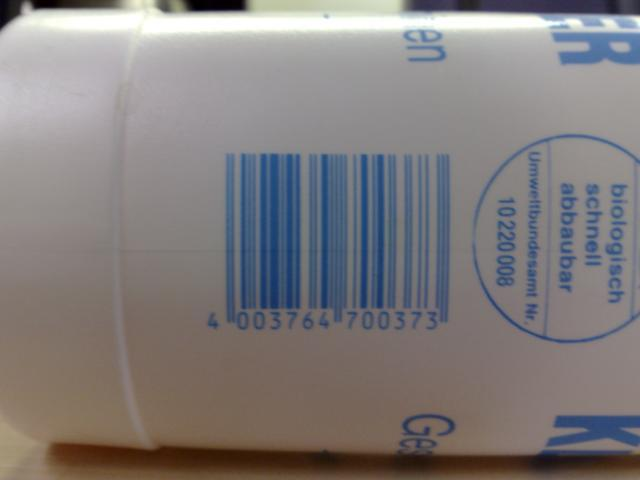Barcode: (192, 134, 471, 343)
